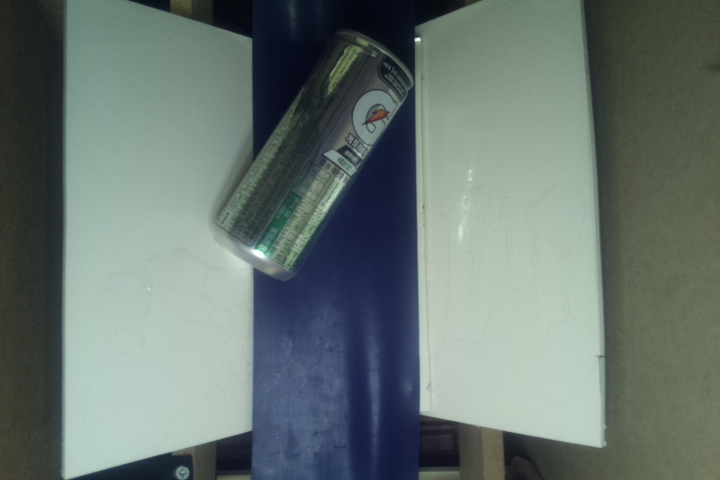can: (210, 29, 413, 288)
